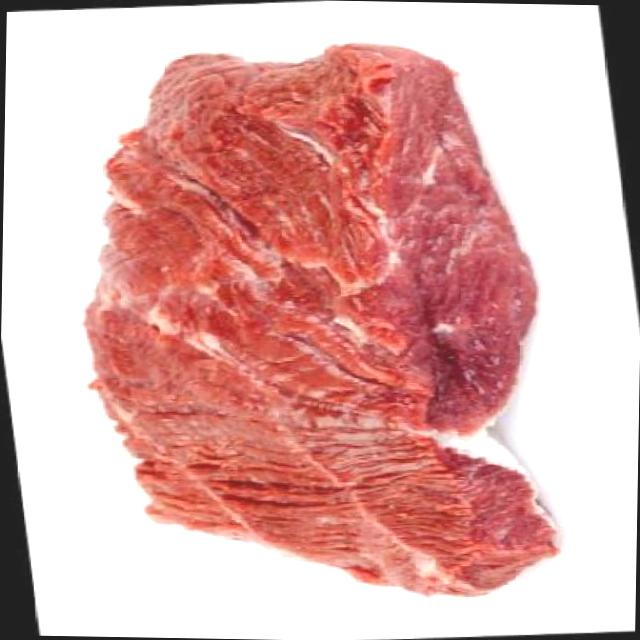beef: (81, 44, 578, 598)
